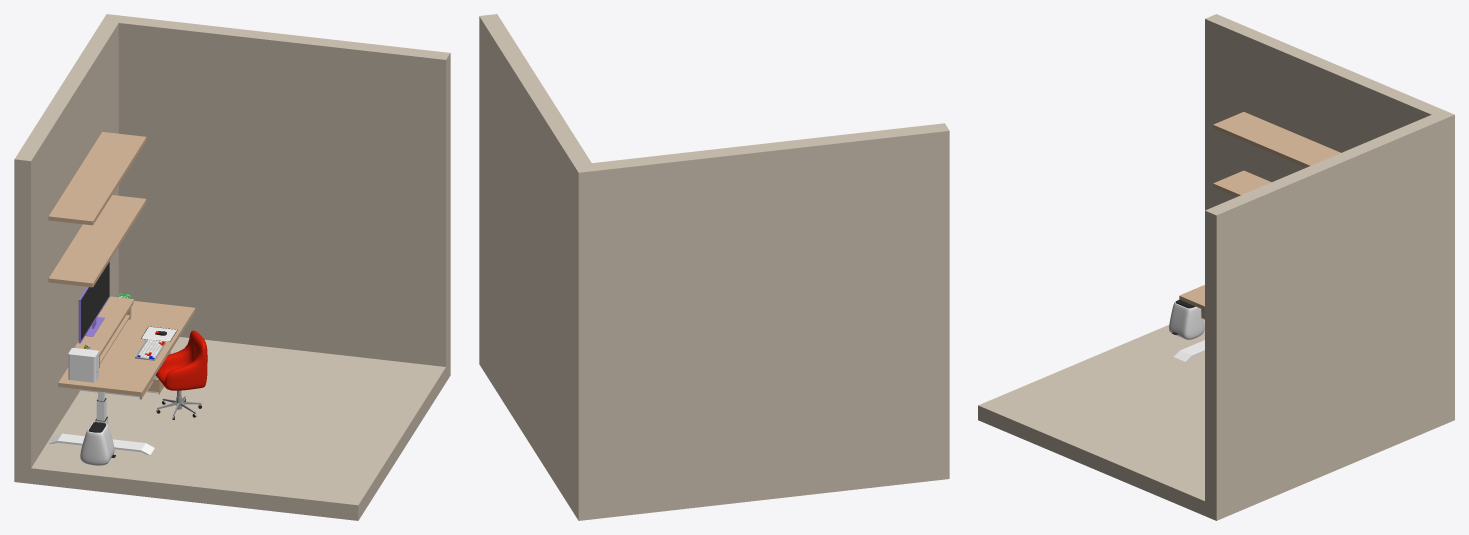
File: Room.glb
The picture shows the model from 3 angles, left to right: view 1: azimuth 30°, elevation 25°; view 2: azimuth 150°, elevation 25°; view 3: azimuth 270°, elevation 25°; orthographic projection. The views are drawn at different scales.
Parts seen in each view (by area): view 1: Room, Table_top, Shelf_top, Shelf_bot, Cube, Table_top.002, Screen, Trashcan_body, Pc, Table_leg_holder; view 2: Room; view 3: Room, Shelf_top, Trashcan_body, Shelf_bot.
Boxes of the visible parts, box(x1,y1,x2,y2) form: Room: box(14, 14, 450, 520); Table_top: box(58, 301, 195, 396); Shelf_top: box(48, 132, 146, 225); Shelf_bot: box(48, 195, 146, 287); Cube: box(155, 330, 207, 390); Table_top.002: box(74, 296, 134, 368); Screen: box(81, 262, 109, 340); Trashcan_body: box(80, 422, 114, 465); Pc: box(68, 348, 98, 382); Table_leg_holder: box(48, 433, 154, 455); Room: box(479, 14, 949, 520); Room: box(978, 14, 1454, 520); Shelf_top: box(1213, 112, 1340, 167); Trashcan_body: box(1169, 299, 1204, 339); Shelf_bot: box(1213, 170, 1271, 196).
Size of the model in its own units: 25.3 by 17.89 by 25.3.
